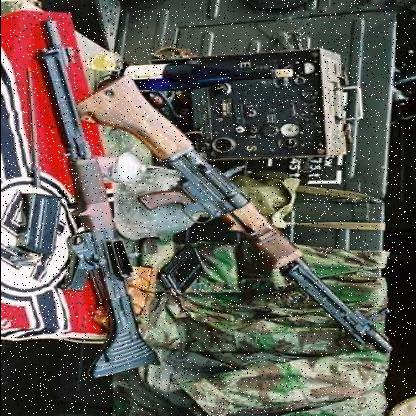rifle: (69, 77, 402, 366), (1, 23, 166, 415)
